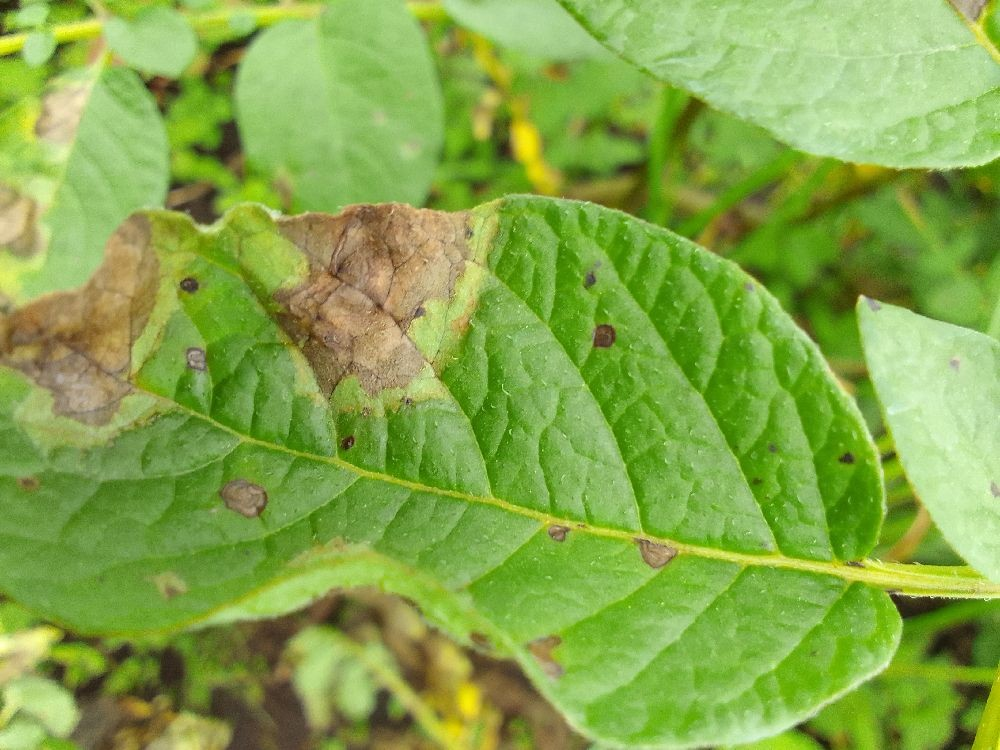late_blight: (55, 570, 604, 749), (232, 166, 497, 421), (0, 190, 185, 451)
